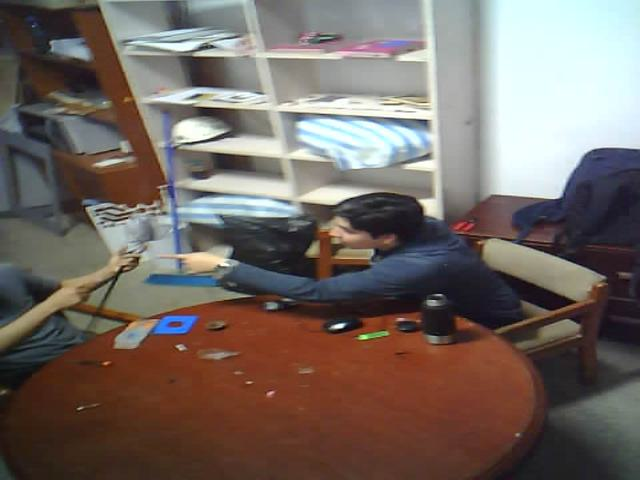person: (162, 153, 544, 351), (3, 180, 146, 429)
